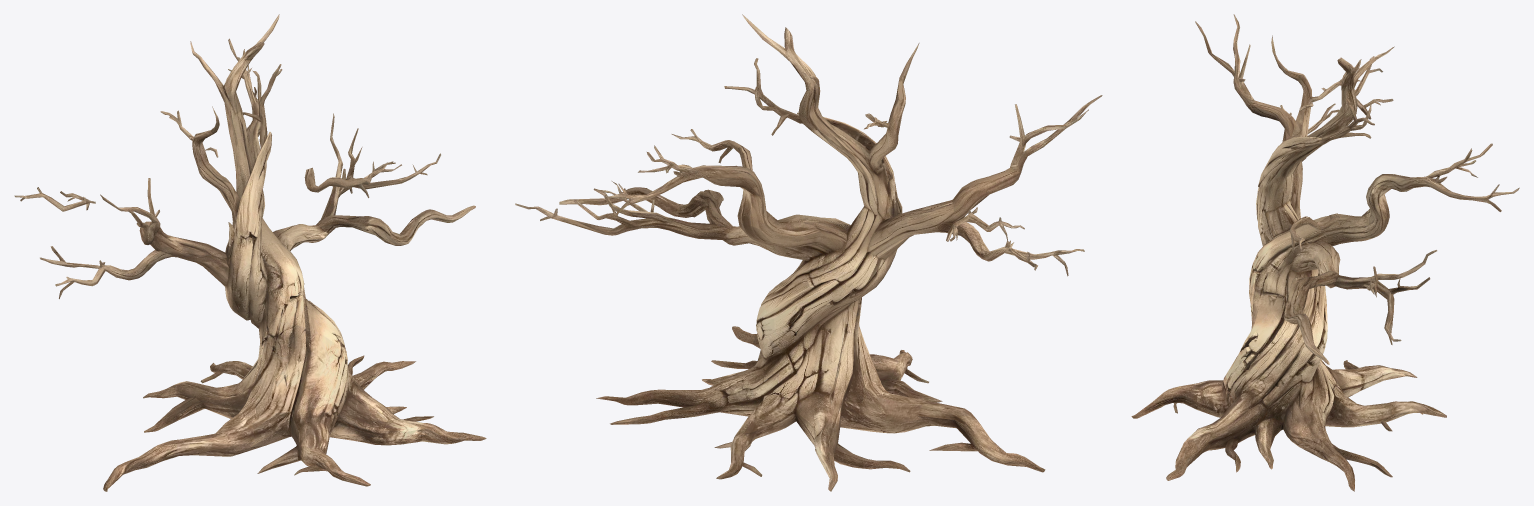
The model's file is tree_dead.glb.
3 renders of one model, left to right at view 1: azimuth 30°, elevation 25°; view 2: azimuth 150°, elevation 25°; view 3: azimuth 270°, elevation 25°, orthographic. The views are drawn at different scales.
Parts seen in each view (by area): view 1: Mesh_0; view 2: Mesh_0; view 3: Mesh_0.
Boxes of the visible parts, bbox=[...] form: Mesh_0: bbox=[14, 14, 486, 491]; Mesh_0: bbox=[515, 14, 1102, 491]; Mesh_0: bbox=[1131, 14, 1519, 491].
Bounding box in the file's own units: 1.9 × 1.58 × 1.46.
1 material, 1 textured.
